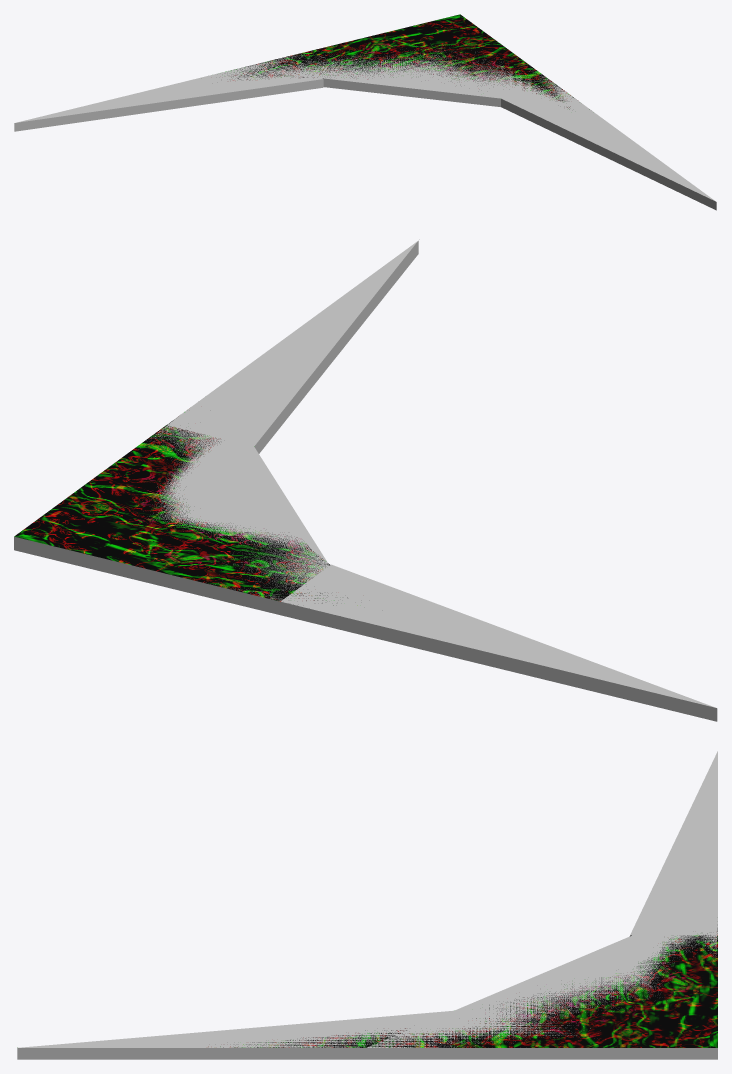
The model's file is floor_large_inverse_SM.fbx.
The picture shows the model from 3 angles, top to bottom: view 1: azimuth 30°, elevation 25°; view 2: azimuth 150°, elevation 25°; view 3: azimuth 270°, elevation 25°; orthographic projection. The views are drawn at different scales.
Parts seen in each view (by area): view 1: floor_large_inverse_SM_ConvexHulls, floor_large_inverse_SM; view 2: floor_large_inverse_SM_ConvexHulls, floor_large_inverse_SM; view 3: floor_large_inverse_SM_ConvexHulls, floor_large_inverse_SM.
Part boxes in pixels (x1,y1,x2,y2): floor_large_inverse_SM_ConvexHulls: [14, 47, 716, 210]; floor_large_inverse_SM: [225, 14, 589, 109]; floor_large_inverse_SM_ConvexHulls: [14, 240, 717, 721]; floor_large_inverse_SM: [14, 412, 357, 605]; floor_large_inverse_SM_ConvexHulls: [17, 751, 717, 1059]; floor_large_inverse_SM: [17, 928, 717, 1047].
Bounding box in the file's own units: 2050 × 2050 × 37.9.
Materials: 2 (1 with a texture image).
